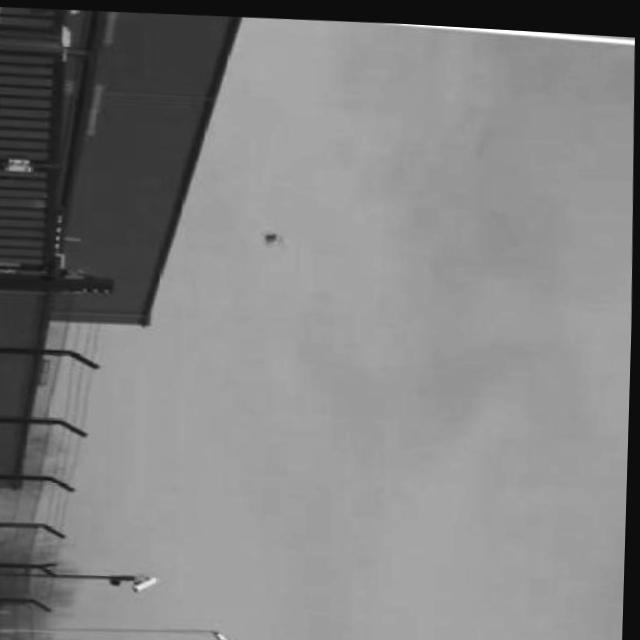helikopter: (262, 224, 290, 247)
